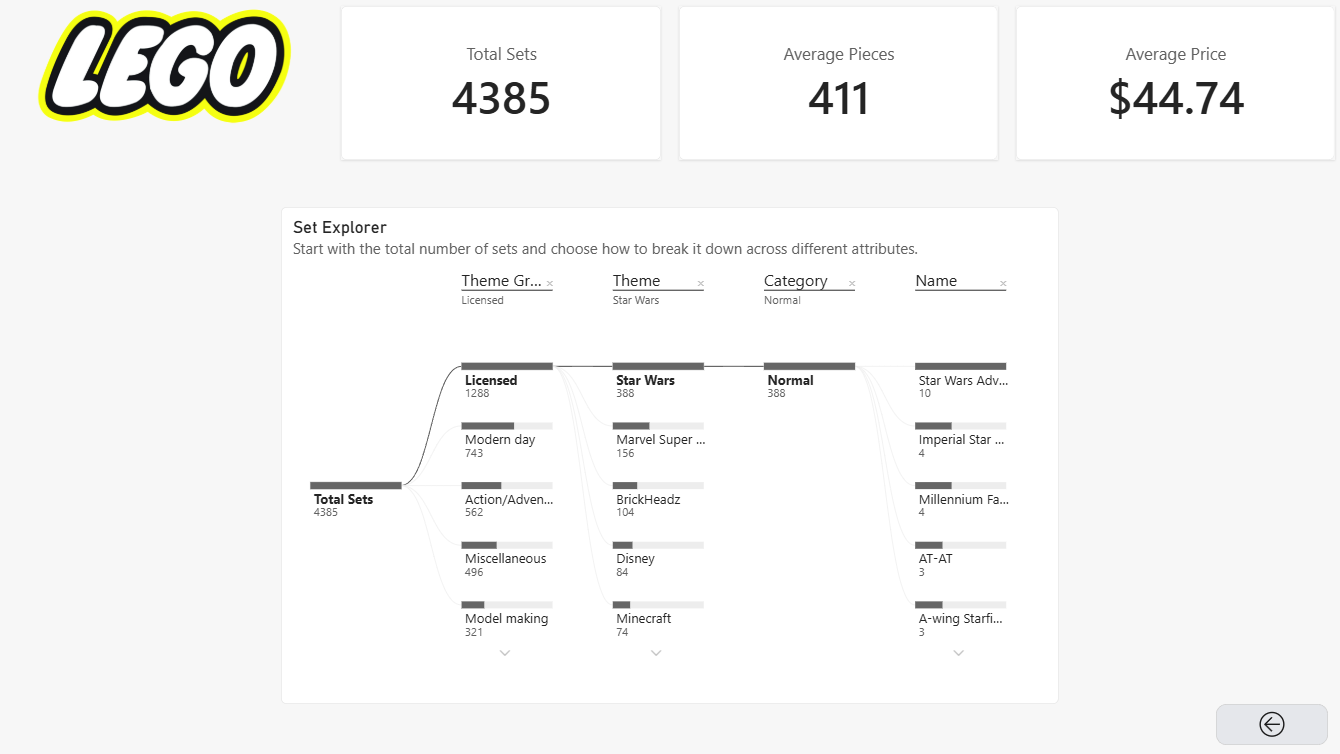

The dashboard page shown, as its layout file describes it:
{"tool":"powerbi","page":{"name":"Set Explorer","canvas":[1920,1080],"ordinal":1},"visuals":[{"type":"decompositionTreeVisual","title":"Set Explorer","fields":{"Analyze":["_Measures.Total Sets"],"ExplainBy":["lego_sets.themeGroup","lego_sets.theme","lego_sets.category","lego_sets.name"]},"box":[404.3,298.6,1111.4,710],"z":0},{"type":"actionButton","box":[1740,1008.6,160,58.6],"z":1000},{"type":"cardVisual","fields":{"Data":["_Measures.Total Sets"]},"box":[490,11.4,457.1,220],"z":1001},{"type":"cardVisual","fields":{"Data":["_Measures.Avg. Pieces"]},"box":[972.9,11.4,455.7,220],"z":1002},{"type":"cardVisual","fields":{"Data":["_Measures.Avg. Price"]},"box":[1454.3,11.4,455.7,220],"z":1003},{"type":"image","box":[10,15.1,456.2,162.6],"z":1004}]}

Visuals, with their boxes in screenshot pixels (x1, y1, x2, y2), scaled from the page's 1920x1080 canvas onto the 1340x754 screenshot:
"Set Explorer" decompositionTreeVisual: 282:208:1058:704
actionButton: 1214:704:1326:745
cardVisual - _Measures.Total Sets: 342:8:661:162
cardVisual - _Measures.Avg. Pieces: 679:8:997:162
cardVisual - _Measures.Avg. Price: 1015:8:1333:162
image: 7:11:325:124
